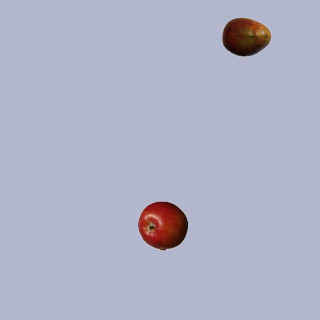Apple Braeburn: (137, 200, 187, 250)
Mango Red: (221, 11, 271, 61)
